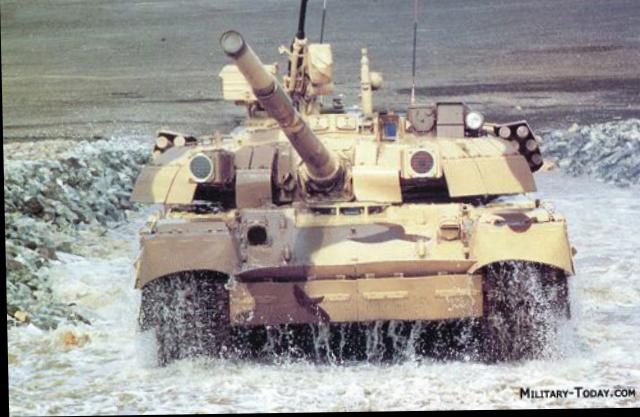tank: (137, 25, 564, 356)
